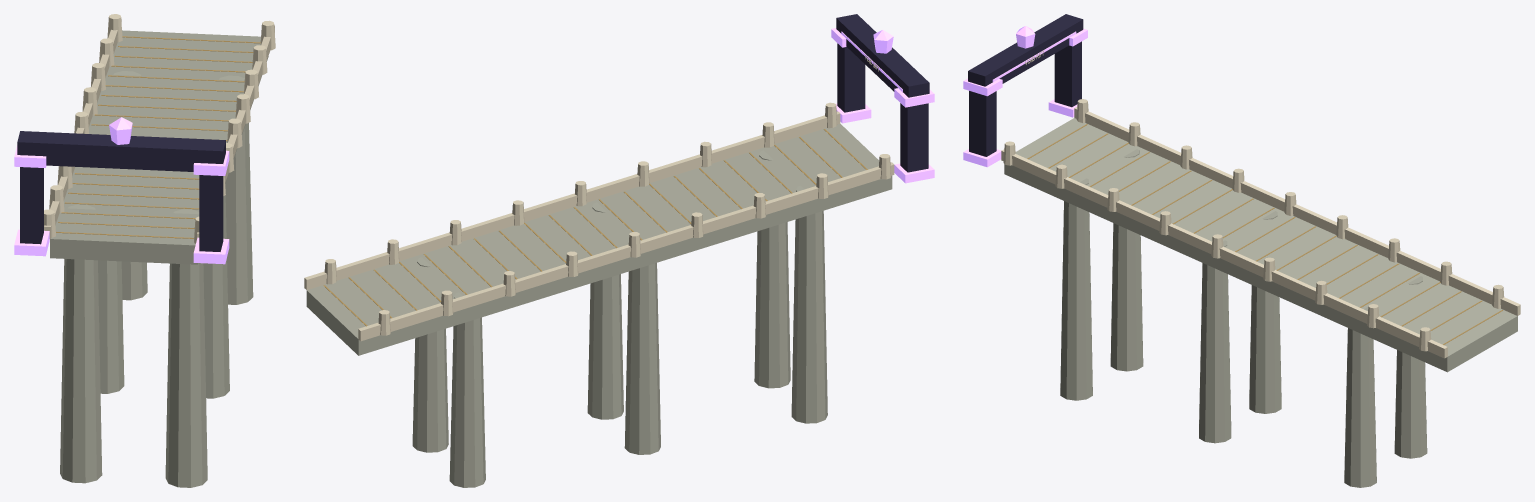
Rendered from Branch_VoidRift.glb.
3 views of the same model, side by side, from view 1: azimuth 30°, elevation 25°; view 2: azimuth 150°, elevation 25°; view 3: azimuth 270°, elevation 25° (orthographic). The views are drawn at different scales.
Parts seen in each view (by area): view 1: Branch_VoidRift_Sanctuary limestone_-2_-2, Branch_VoidRift_Sanctuary limestone_-2_-3, Branch_VoidRift_VoidRift_dark_-2_-3, Branch_VoidRift_Warm ivory_-2_-2, Branch_VoidRift_VoidRift_accent_-2_-3, Branch_VoidRift_Aged gold_-2_-2, Branch_VoidRift_Aged gold_-2_-3, Branch_VoidRift_Warm ivory_-2_-3, Branch_VoidRift_Warm ivory_-1_-2; view 2: Branch_VoidRift_Sanctuary limestone_-2_-2, Branch_VoidRift_Warm ivory_-2_-2, Branch_VoidRift_Sanctuary limestone_-2_-3, Branch_VoidRift_VoidRift_dark_-2_-3, Branch_VoidRift_VoidRift_accent_-2_-3, Branch_VoidRift_Aged gold_-2_-2, Branch_VoidRift_Warm ivory_-2_-3; view 3: Branch_VoidRift_Sanctuary limestone_-2_-2, Branch_VoidRift_Warm ivory_-2_-2, Branch_VoidRift_Sanctuary limestone_-2_-3, Branch_VoidRift_VoidRift_dark_-2_-3, Branch_VoidRift_VoidRift_accent_-2_-3, Branch_VoidRift_Aged gold_-2_-2, Branch_VoidRift_Warm ivory_-2_-3, Branch_VoidRift_Aged gold_-2_-3.
Part boxes in pixels (x1=…): Branch_VoidRift_Sanctuary limestone_-2_-2: x1=50, y1=30, x2=268, y2=398; Branch_VoidRift_Sanctuary limestone_-2_-3: x1=60, y1=204, x2=207, y2=487; Branch_VoidRift_VoidRift_dark_-2_-3: x1=17, y1=131, x2=225, y2=251; Branch_VoidRift_Warm ivory_-2_-2: x1=44, y1=14, x2=274, y2=238; Branch_VoidRift_VoidRift_accent_-2_-3: x1=14, y1=117, x2=229, y2=264; Branch_VoidRift_Aged gold_-2_-2: x1=75, y1=46, x2=253, y2=179; Branch_VoidRift_Aged gold_-2_-3: x1=56, y1=183, x2=199, y2=238; Branch_VoidRift_Warm ivory_-2_-3: x1=44, y1=176, x2=225, y2=243; Branch_VoidRift_Warm ivory_-1_-2: x1=252, y1=20, x2=275, y2=74; Branch_VoidRift_Sanctuary limestone_-2_-2: x1=306, y1=123, x2=892, y2=487; Branch_VoidRift_Warm ivory_-2_-2: x1=304, y1=111, x2=894, y2=341; Branch_VoidRift_Sanctuary limestone_-2_-3: x1=754, y1=150, x2=827, y2=423; Branch_VoidRift_VoidRift_dark_-2_-3: x1=836, y1=14, x2=929, y2=172; Branch_VoidRift_VoidRift_accent_-2_-3: x1=831, y1=28, x2=934, y2=183; Branch_VoidRift_Aged gold_-2_-2: x1=348, y1=176, x2=717, y2=318; Branch_VoidRift_Warm ivory_-2_-3: x1=700, y1=55, x2=891, y2=198; Branch_VoidRift_Sanctuary limestone_-2_-2: x1=1004, y1=118, x2=1517, y2=487; Branch_VoidRift_Warm ivory_-2_-2: x1=1001, y1=107, x2=1520, y2=358; Branch_VoidRift_Sanctuary limestone_-2_-3: x1=1060, y1=149, x2=1143, y2=400; Branch_VoidRift_VoidRift_dark_-2_-3: x1=968, y1=14, x2=1083, y2=156; Branch_VoidRift_VoidRift_accent_-2_-3: x1=963, y1=26, x2=1087, y2=167; Branch_VoidRift_Aged gold_-2_-2: x1=1152, y1=180, x2=1482, y2=330; Branch_VoidRift_Warm ivory_-2_-3: x1=1003, y1=50, x2=1140, y2=211; Branch_VoidRift_Aged gold_-2_-3: x1=1027, y1=124, x2=1191, y2=205.
Bounding box in the file's own units: 108 × 85 × 130.
